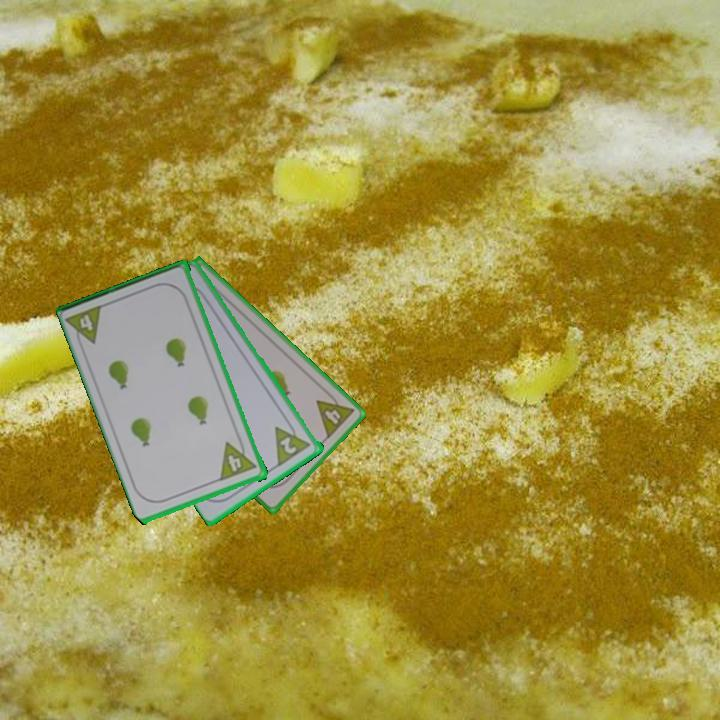2p: (271, 416, 314, 468)
4p: (313, 387, 358, 442), (64, 301, 107, 351), (217, 435, 260, 483)
